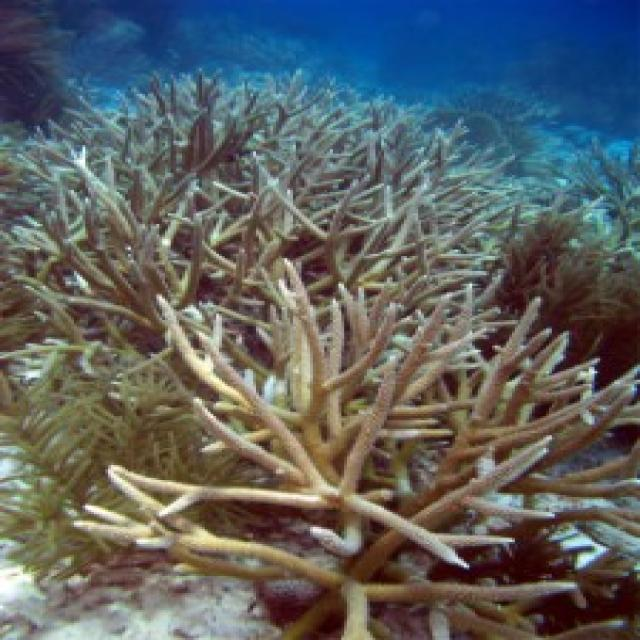Healthy: (1, 76, 638, 639)
